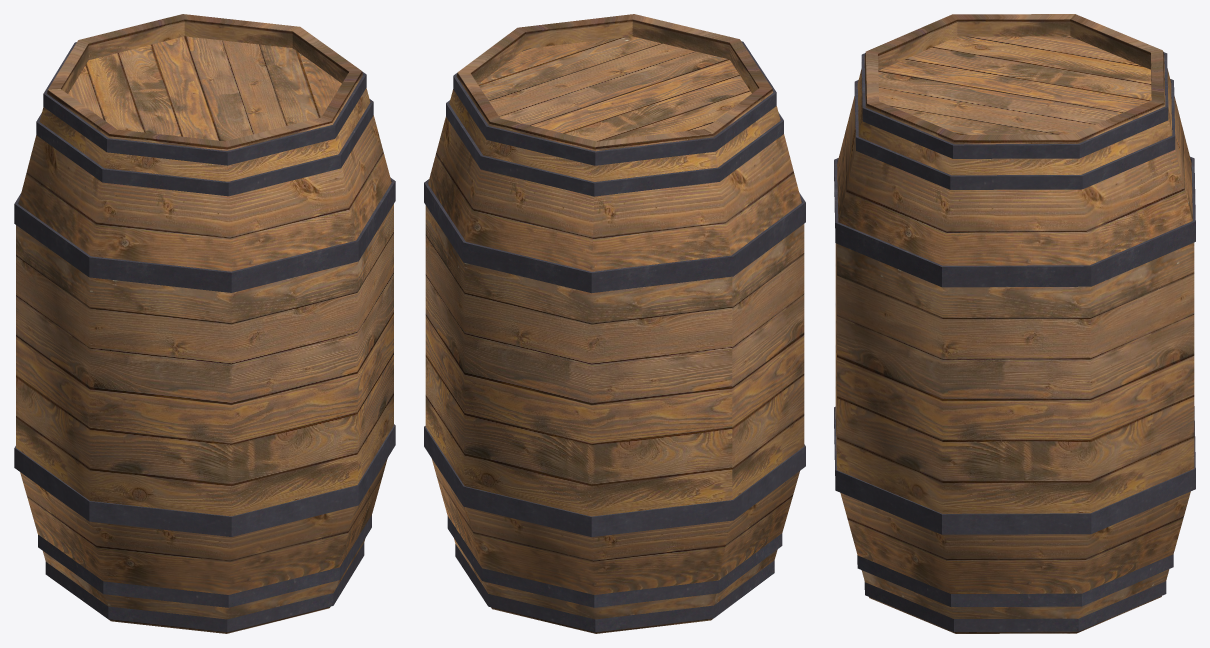
Rendered from barrel.FBX.
3 renders of one model, left to right at view 1: azimuth 30°, elevation 25°; view 2: azimuth 150°, elevation 25°; view 3: azimuth 270°, elevation 25°, orthographic.
Parts seen in each view (by area): view 1: Cylinder035, barrel; view 2: Cylinder035, barrel; view 3: Cylinder035, barrel.
Boxes of the visible parts, x1=… form: Cylinder035: x1=14, y1=14, x2=395, y2=633; barrel: x1=68, y1=36, x2=341, y2=141; Cylinder035: x1=424, y1=14, x2=805, y2=633; barrel: x1=478, y1=36, x2=751, y2=141; Cylinder035: x1=834, y1=14, x2=1195, y2=633; barrel: x1=878, y1=36, x2=1151, y2=134.
Bounding box in the file's own units: 31.67 × 47.82 × 31.67.
Materials: 3 (3 with a texture image).
